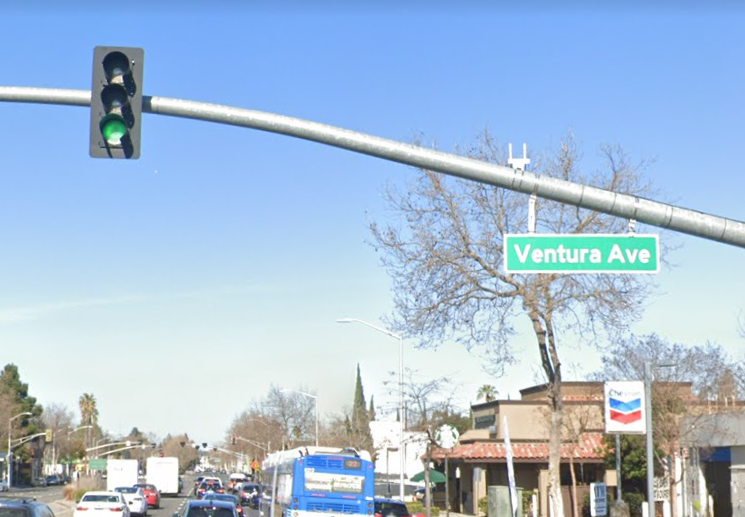green_light: (95, 48, 137, 159)
